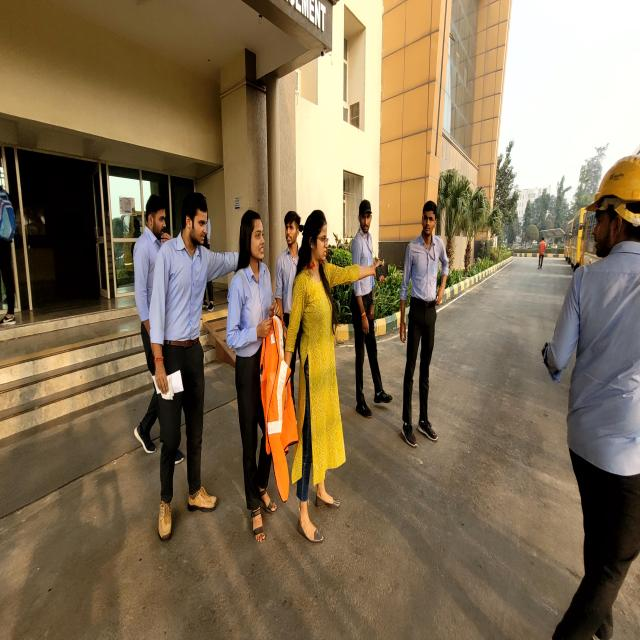no jacket: (557, 150, 640, 640), (537, 236, 546, 270)
unsafe: (160, 198, 218, 543), (228, 210, 280, 546), (300, 208, 348, 542), (130, 187, 168, 463), (402, 200, 441, 448), (350, 197, 391, 414), (279, 209, 298, 315)
